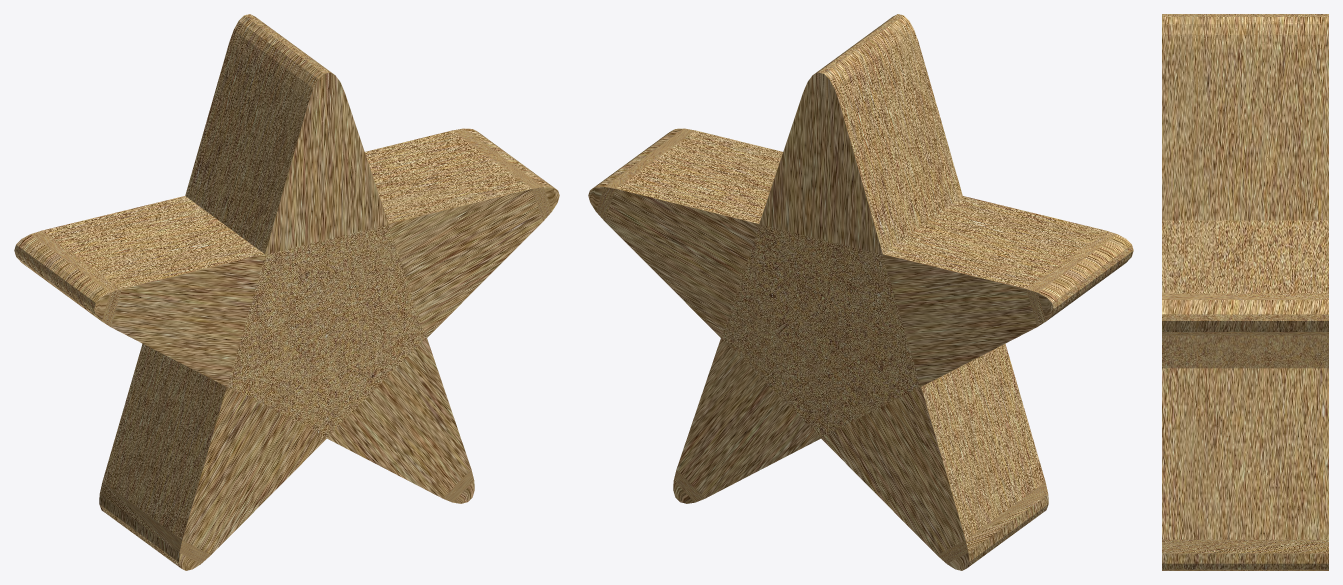
Rendered from star.obj.
3 views of the same model, side by side, from view 1: azimuth 30°, elevation 25°; view 2: azimuth 150°, elevation 25°; view 3: azimuth 270°, elevation 25° (orthographic). The views are drawn at different scales.
Parts seen in each view (by area): view 1: Cylinder_Cylinder.001; view 2: Cylinder_Cylinder.001; view 3: Cylinder_Cylinder.001.
Part boxes in pixels (x1,y1,x2,y2): Cylinder_Cylinder.001: [14, 14, 559, 570]; Cylinder_Cylinder.001: [588, 14, 1133, 570]; Cylinder_Cylinder.001: [1162, 14, 1328, 570].
Size of the model in its own units: 0.2524 by 0.2401 by 0.075.
